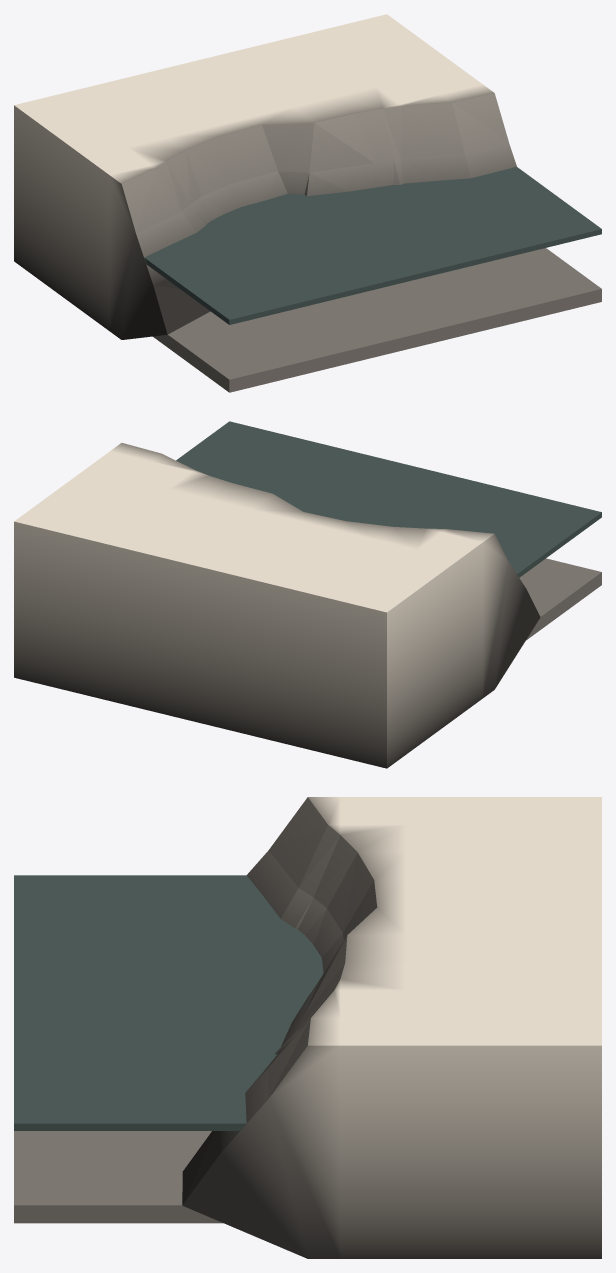
The model's file is SM_VKI_Ground_Stream_XXOO_Q01.fbx.
3 renders of one model, top to bottom at view 1: azimuth 30°, elevation 25°; view 2: azimuth 150°, elevation 25°; view 3: azimuth 270°, elevation 25°, orthographic. The views are drawn at different scales.
Visible parts, largest first — view 1: SM_VKI_Ground_Stream_XXOO_Q01.001; view 2: SM_VKI_Ground_Stream_XXOO_Q01.001; view 3: SM_VKI_Ground_Stream_XXOO_Q01.001.
Part boxes in pixels (left/top/right/bottom): SM_VKI_Ground_Stream_XXOO_Q01.001: left=14, top=14, right=601, bottom=392; SM_VKI_Ground_Stream_XXOO_Q01.001: left=14, top=421, right=601, bottom=768; SM_VKI_Ground_Stream_XXOO_Q01.001: left=14, top=797, right=601, bottom=1258.
Bounding box in the file's own units: 1.5 × 0.6 × 1.5.
